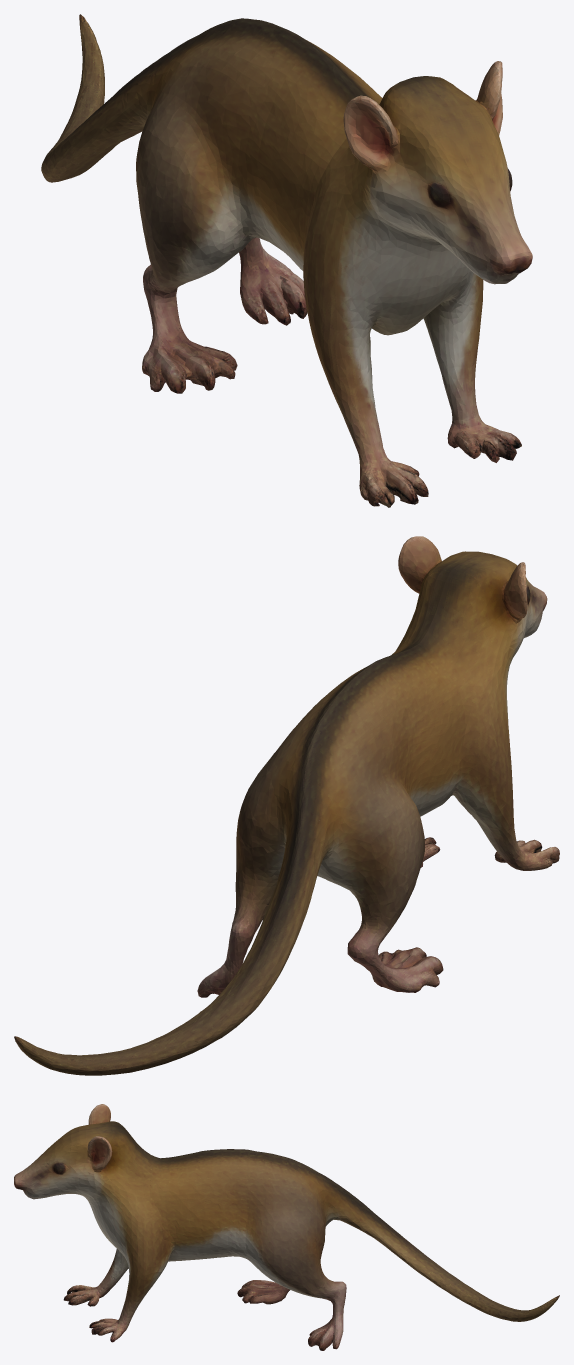
3 views of the same model, one above another, from view 1: azimuth 30°, elevation 25°; view 2: azimuth 150°, elevation 25°; view 3: azimuth 270°, elevation 25° (orthographic). The views are drawn at different scales.
Parts seen in each view (by area): view 1: world; view 2: world; view 3: world.
Boxes of the visible parts, box(x1,y1,x2,y2) form: world: box(41, 14, 532, 507); world: box(14, 536, 559, 1075); world: box(14, 1104, 559, 1350).
Size of the model in its own units: 0.0296 by 0.0504 by 0.12.
1 material, 1 textured.
